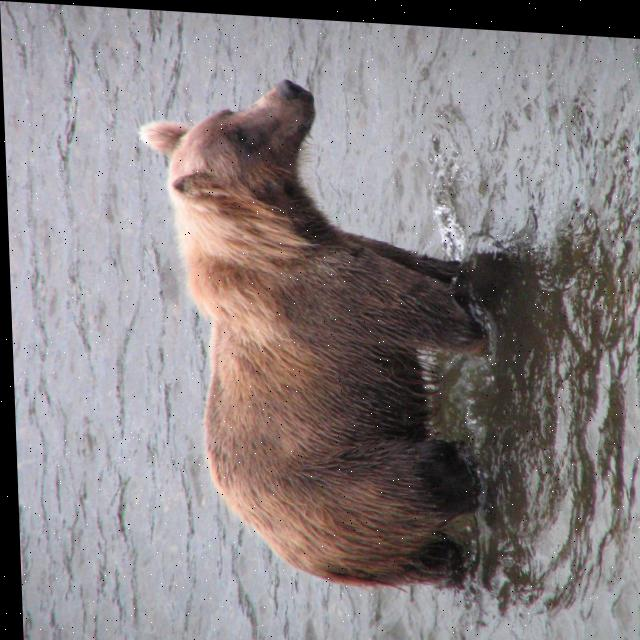bear face: (136, 67, 485, 582)
